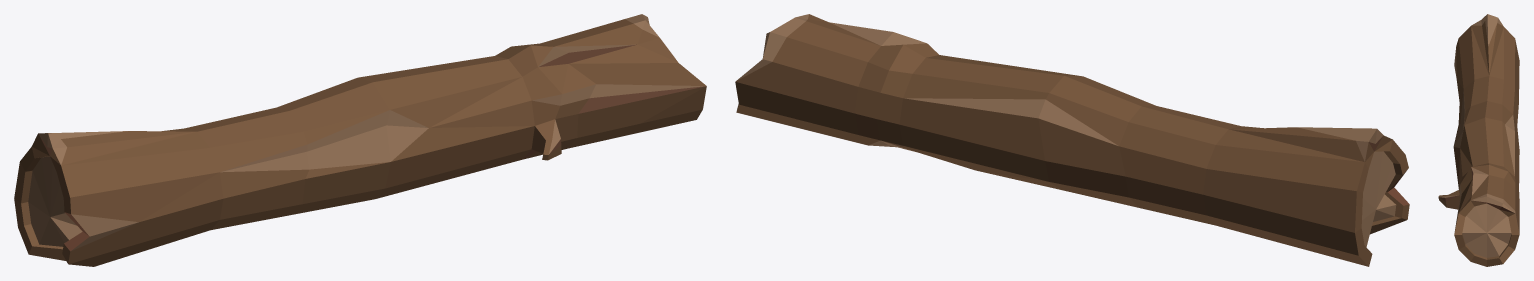
Rendered from mesh_log_01.fbx.
3 renders of one model, left to right at view 1: azimuth 30°, elevation 25°; view 2: azimuth 150°, elevation 25°; view 3: azimuth 270°, elevation 25°, orthographic. The views are drawn at different scales.
Parts seen in each view (by area): view 1: mesh_log_01; view 2: mesh_log_01; view 3: mesh_log_01.
Boxes of the visible parts, bbox=[...] form: mesh_log_01: bbox=[14, 14, 706, 266]; mesh_log_01: bbox=[735, 14, 1409, 266]; mesh_log_01: bbox=[1438, 14, 1519, 266].
Bounding box in the file's own units: 1.57 × 0.3183 × 0.3027.
